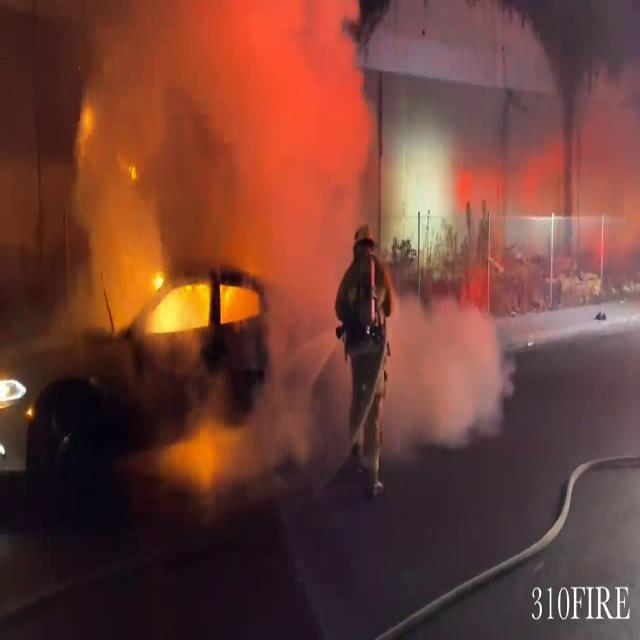Smoke: (39, 0, 380, 332), (382, 286, 502, 462)
